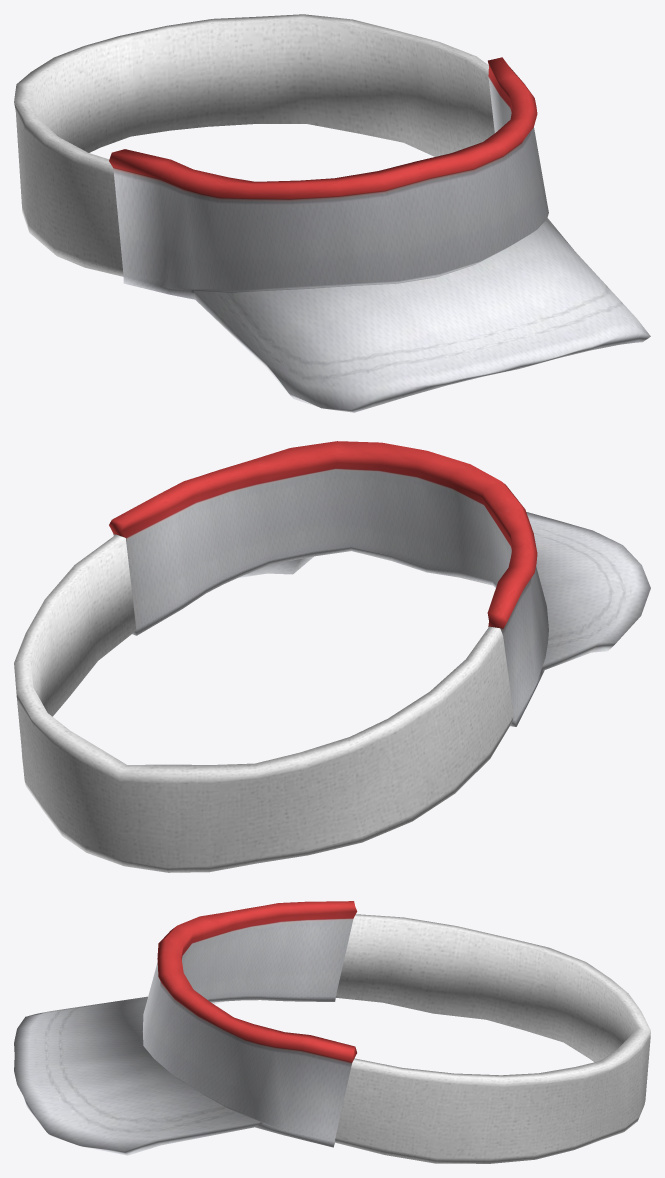
File: punkduck-sun-visor-sports-visor.glb
3 views of the same model, one above another, from view 1: azimuth 30°, elevation 25°; view 2: azimuth 150°, elevation 25°; view 3: azimuth 270°, elevation 25° (orthographic). The views are drawn at different scales.
Visible parts, largest first — view 1: Human.punkduck_sun_visor_sports_visor; view 2: Human.punkduck_sun_visor_sports_visor; view 3: Human.punkduck_sun_visor_sports_visor.
Boxes of the visible parts, x1=… form: Human.punkduck_sun_visor_sports_visor: x1=14, y1=14, x2=650, y2=412; Human.punkduck_sun_visor_sports_visor: x1=14, y1=441, x2=650, y2=872; Human.punkduck_sun_visor_sports_visor: x1=14, y1=901, x2=650, y2=1163.
Bounding box in the file's own units: 0.1661 × 0.0751 × 0.2851.
1 material, 1 textured.
